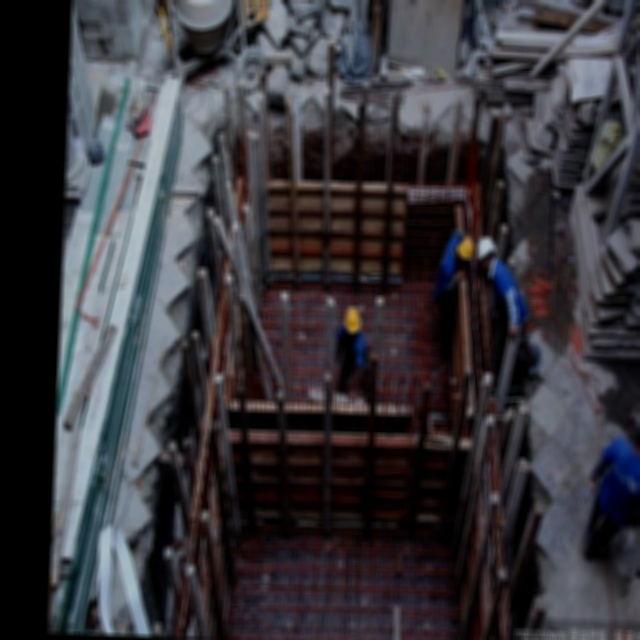Con_Casco: (476, 236, 496, 269), (344, 305, 361, 337), (456, 238, 476, 265)
